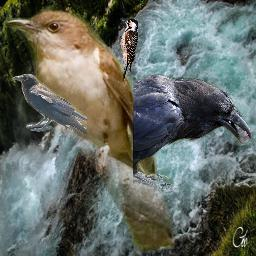Crow: (133, 74, 252, 192), (12, 74, 87, 134)
Cuckoo: (2, 5, 175, 254)
Woodpecker: (118, 17, 139, 83)
